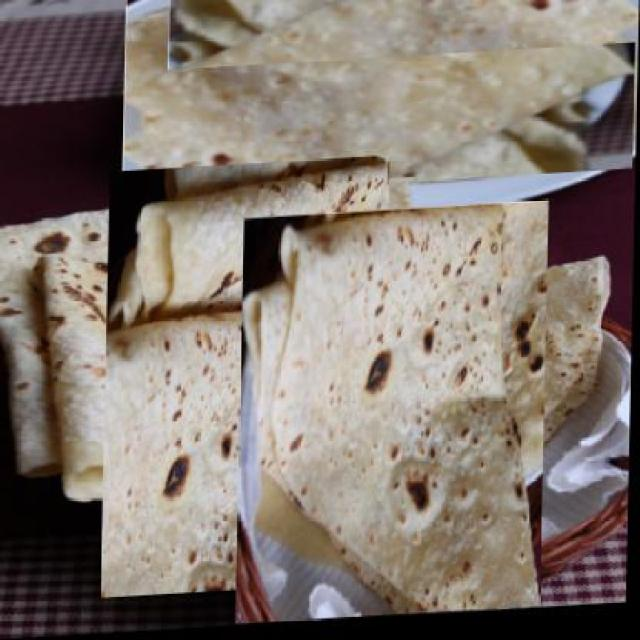chapati: (207, 236, 582, 622), (66, 195, 428, 568), (0, 182, 417, 482), (122, 0, 640, 202), (167, 0, 638, 74)
